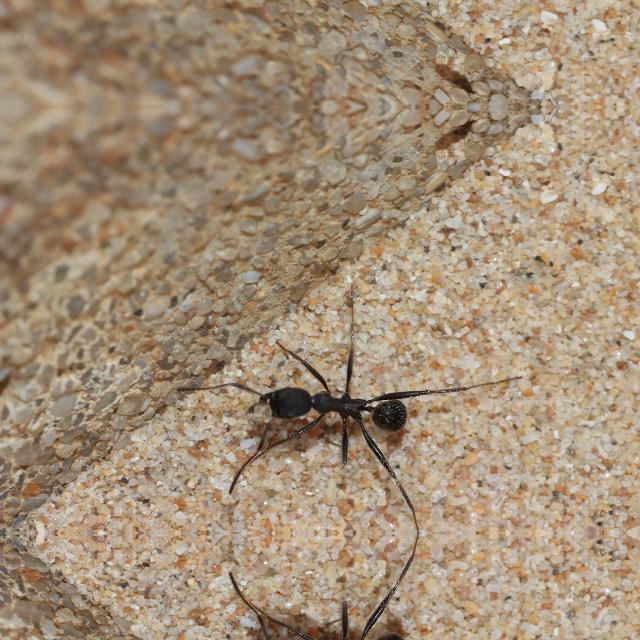Apheanogaster: (235, 355, 441, 453), (235, 612, 441, 640)
